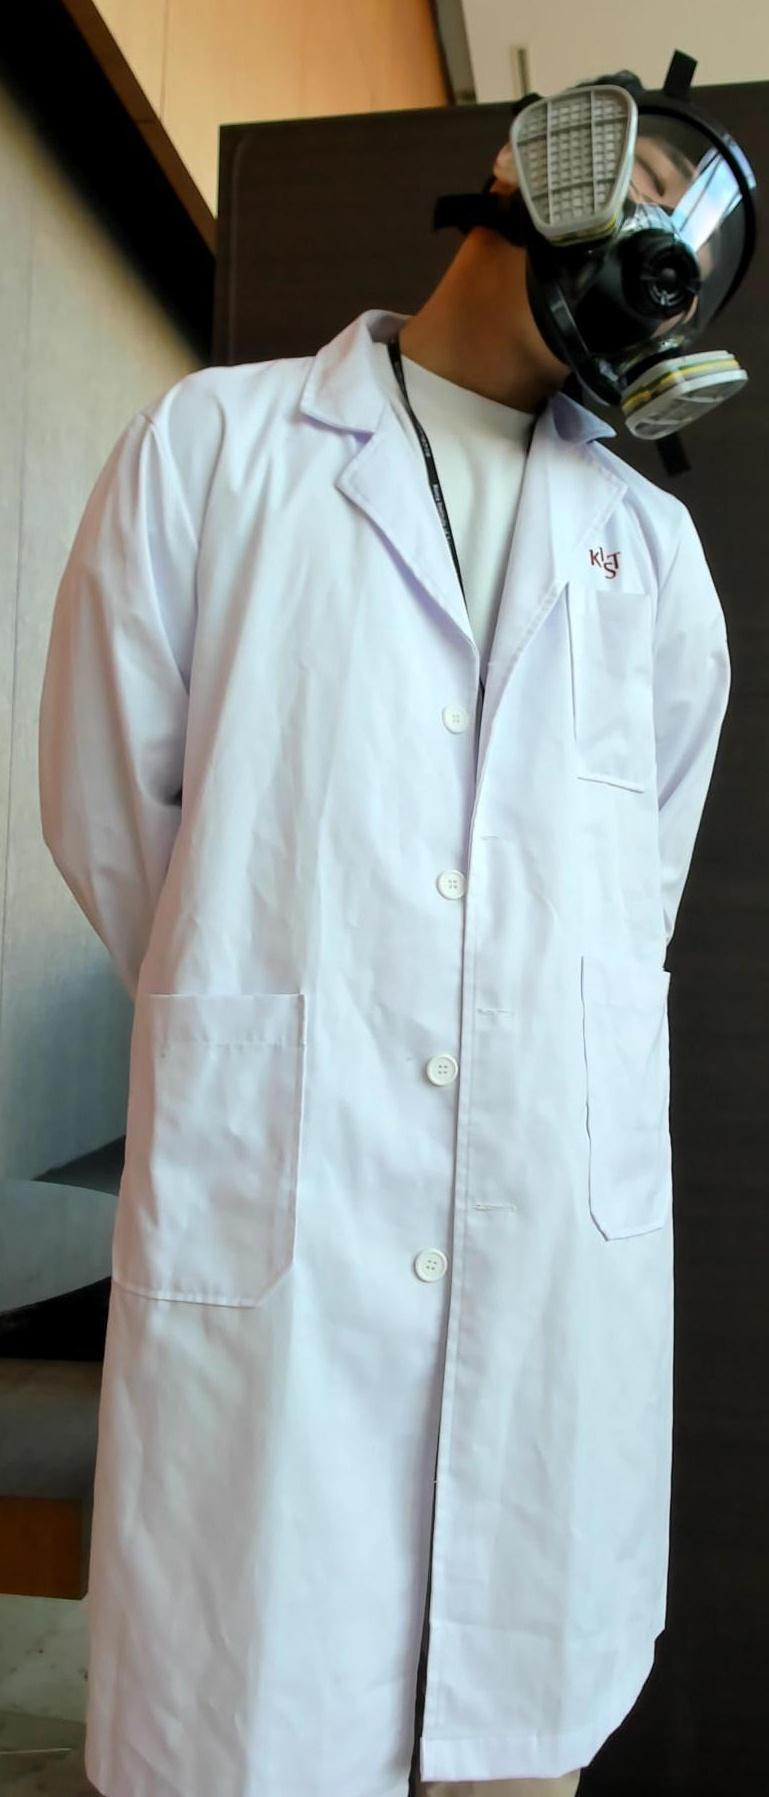lab_coat: (24, 387, 755, 1797)
